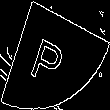P_NE: (34, 24, 76, 86)
